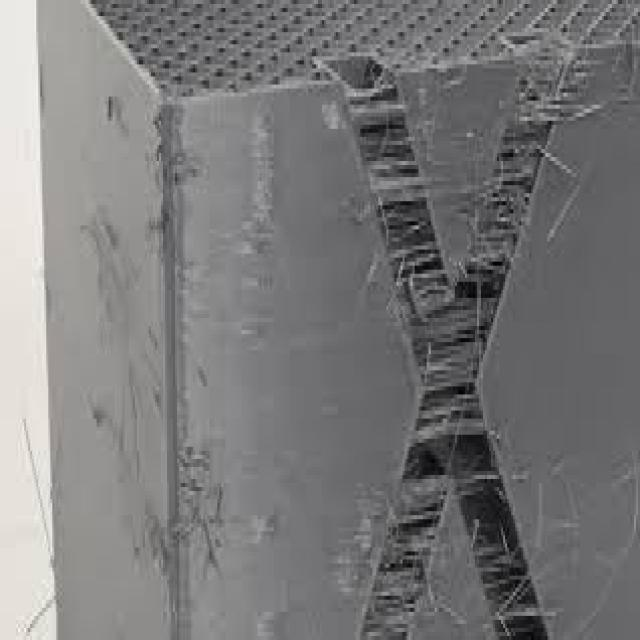stringing: (408, 293, 494, 487), (368, 112, 443, 311), (467, 509, 549, 626), (371, 489, 434, 622)
